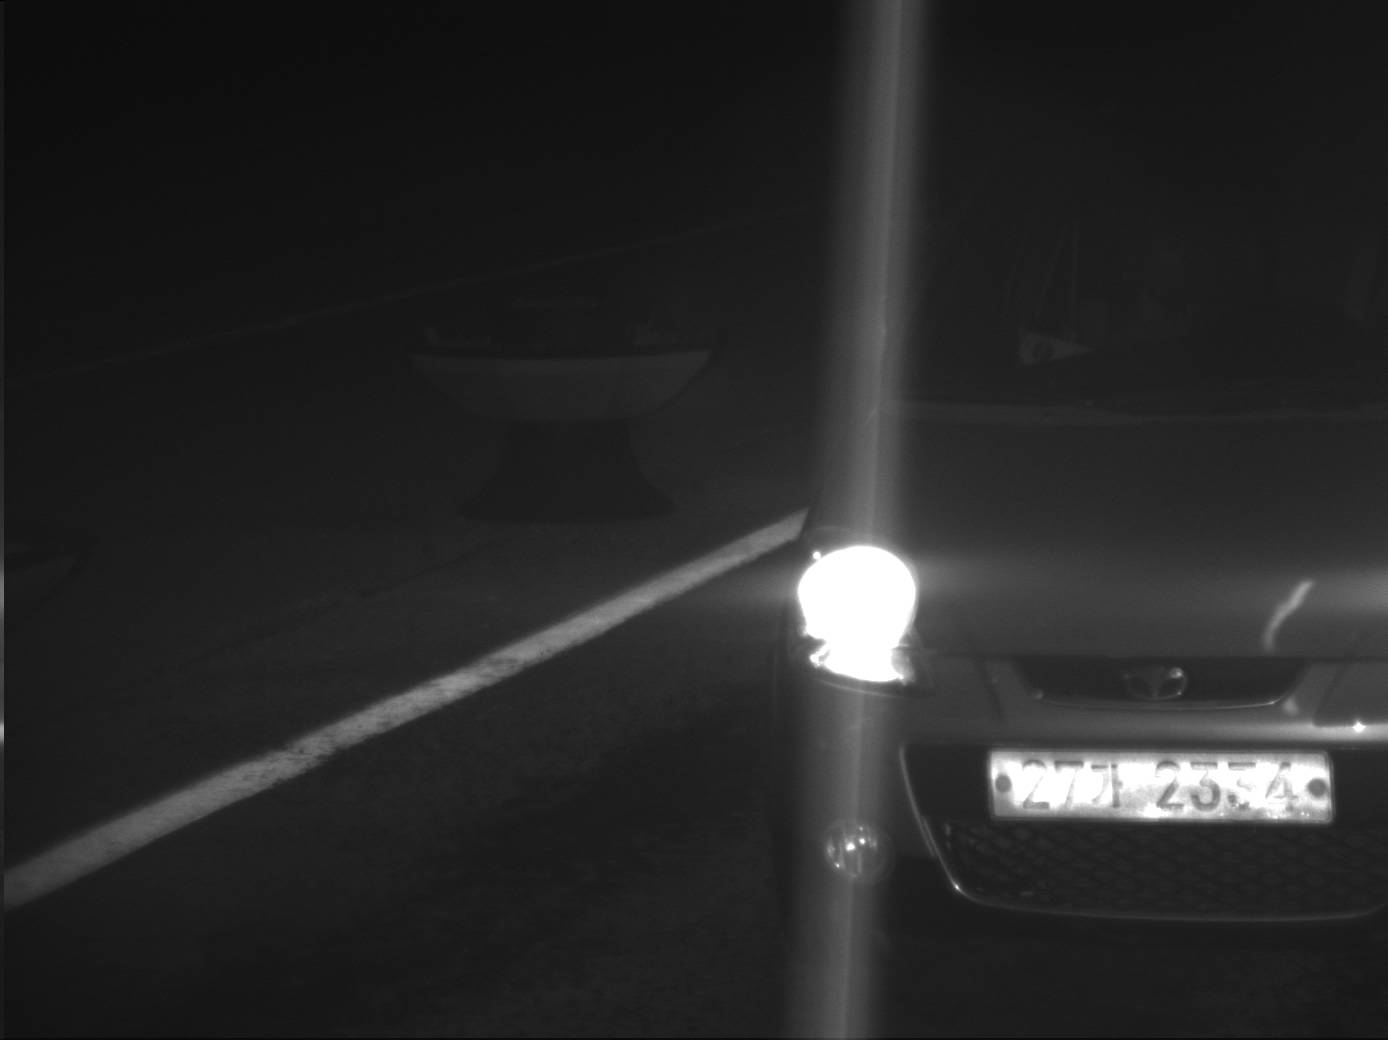car: (774, 133, 1384, 957)
plate: (978, 742, 1334, 826)
